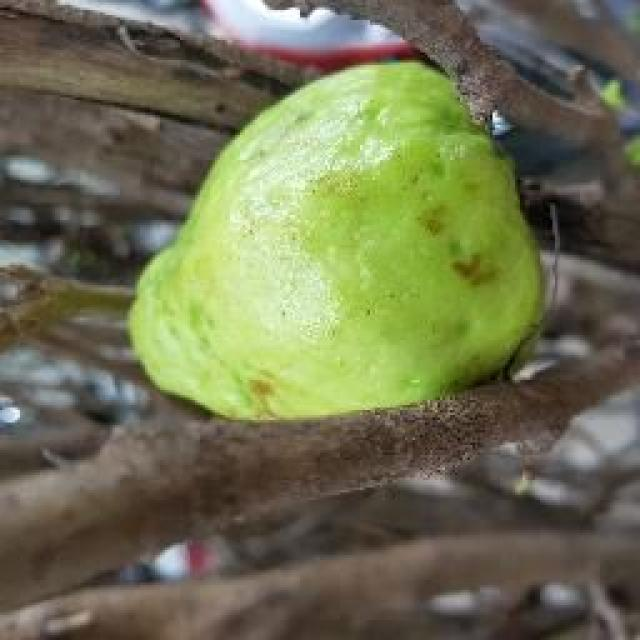Good_Guava: (128, 58, 548, 422)
